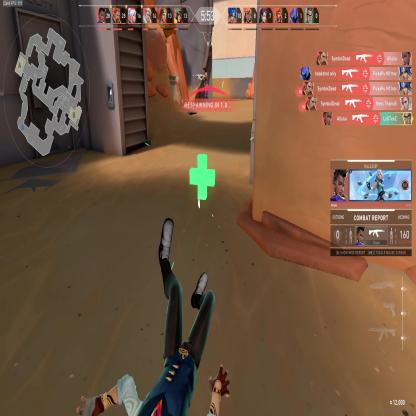enemy: (201, 66, 208, 86)
